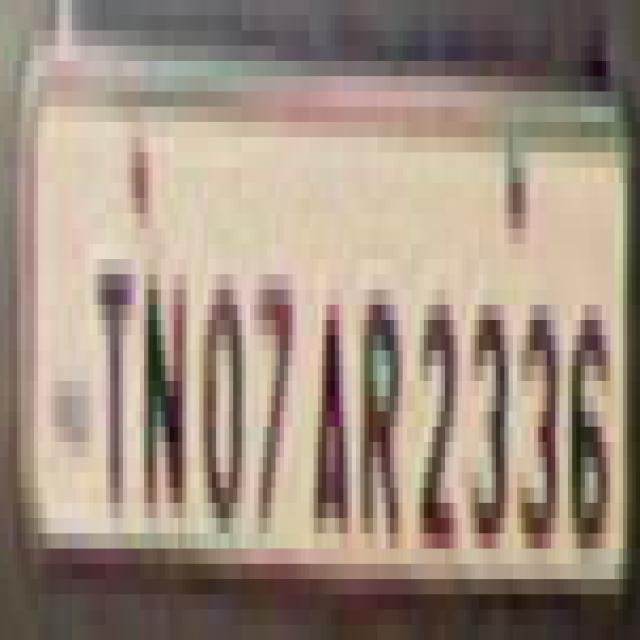license_plate: (34, 31, 631, 579)
